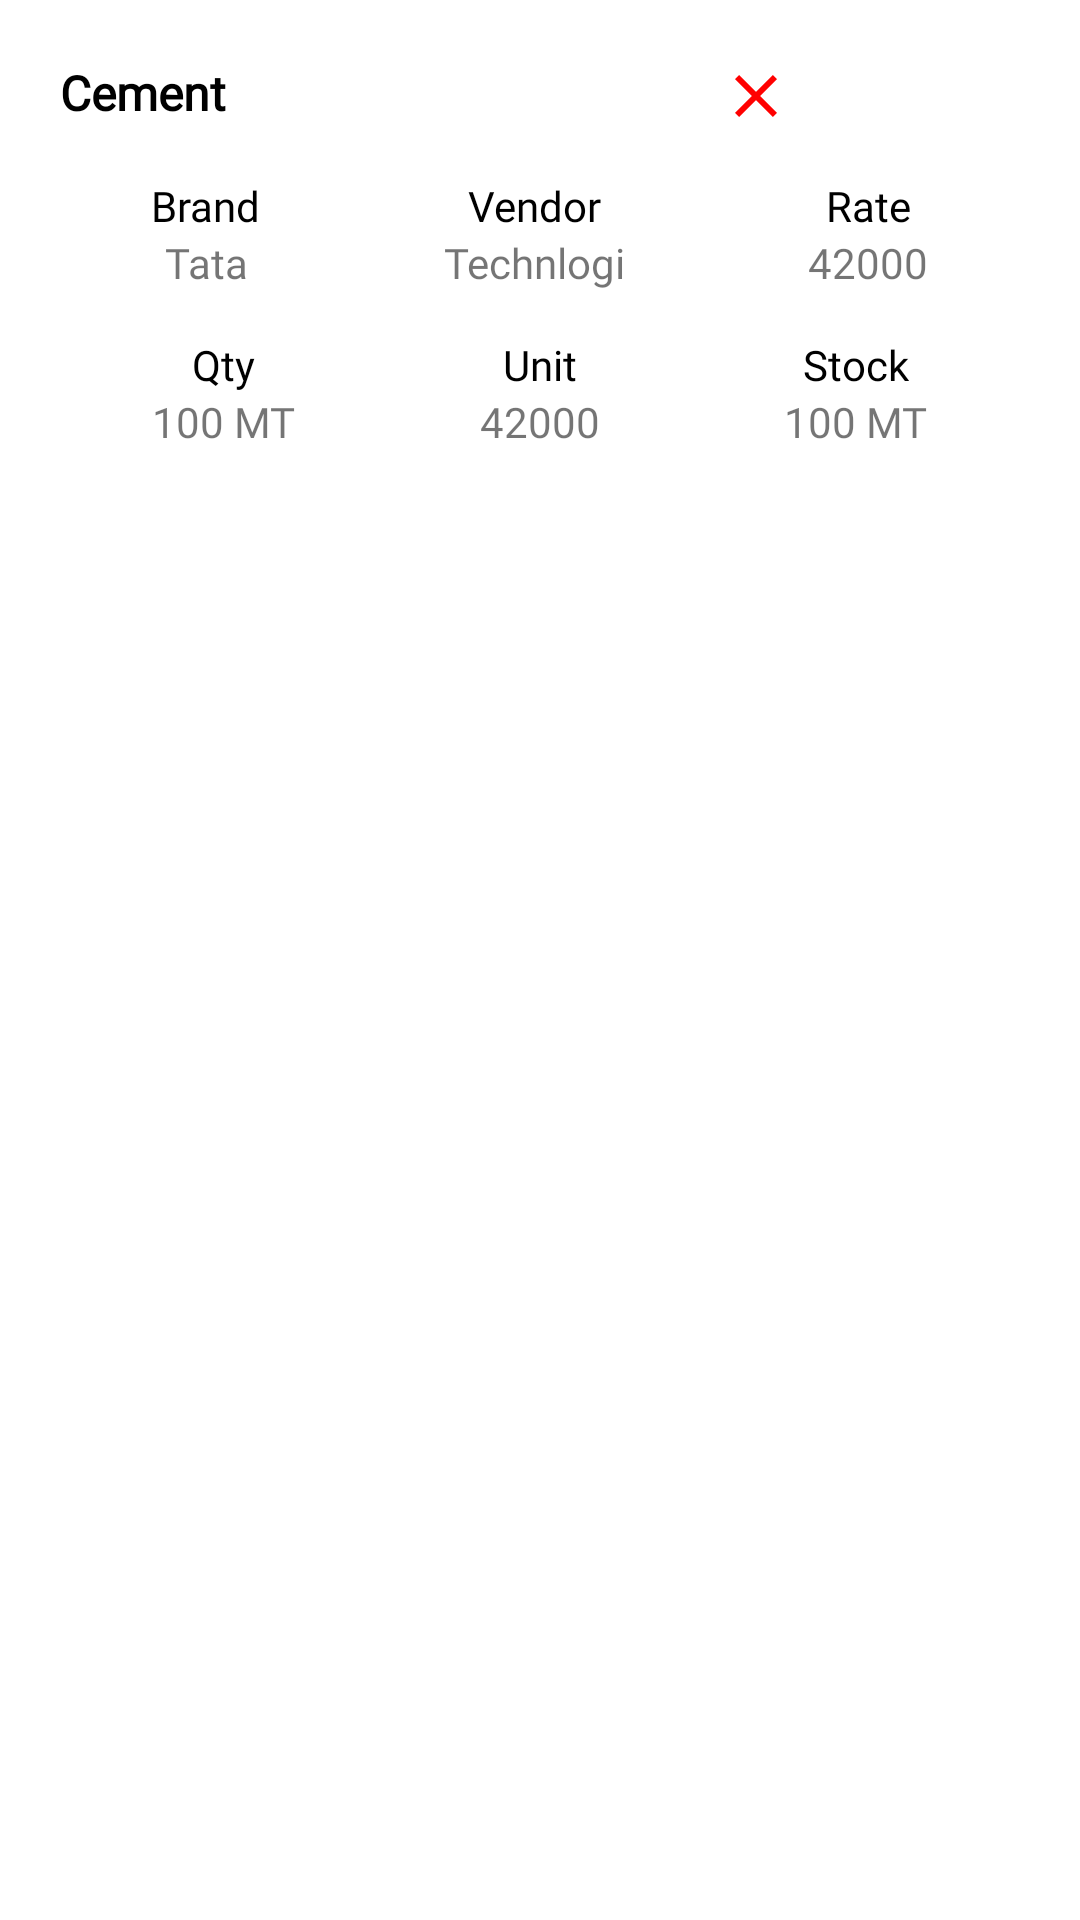

Point at icon controls on the screen. Image size 1080×1920, points as point (x, y).
close: point (756, 96)
